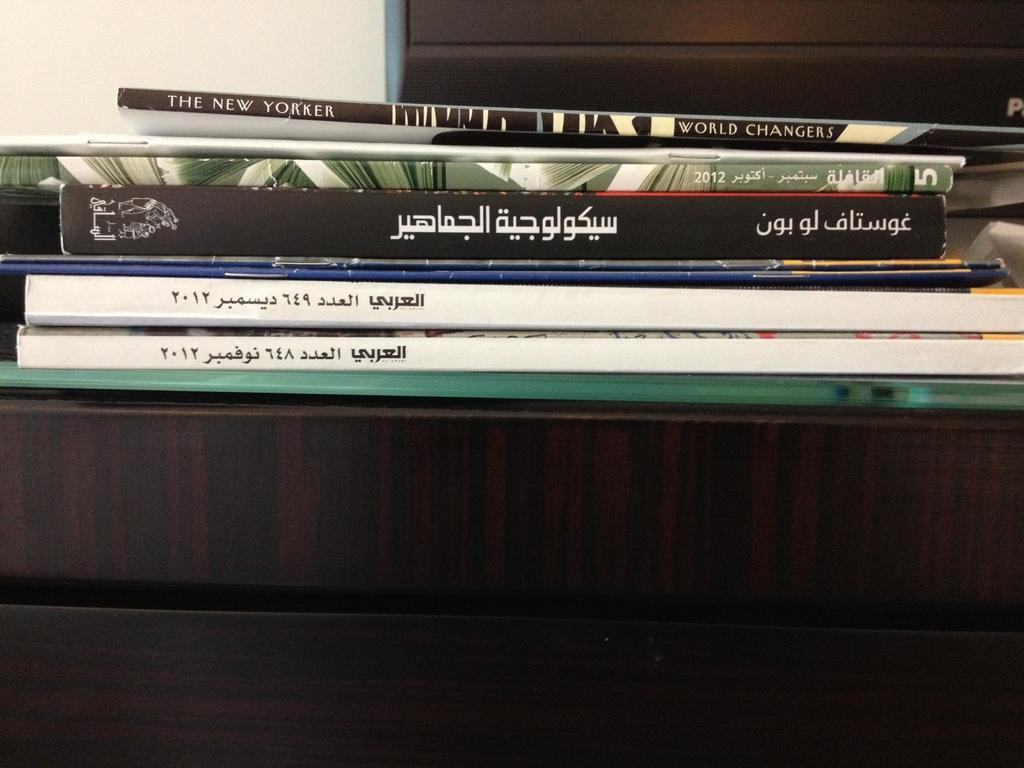Book: (57, 184, 948, 260), (2, 273, 1022, 333), (116, 86, 1023, 147), (12, 325, 1023, 377)
